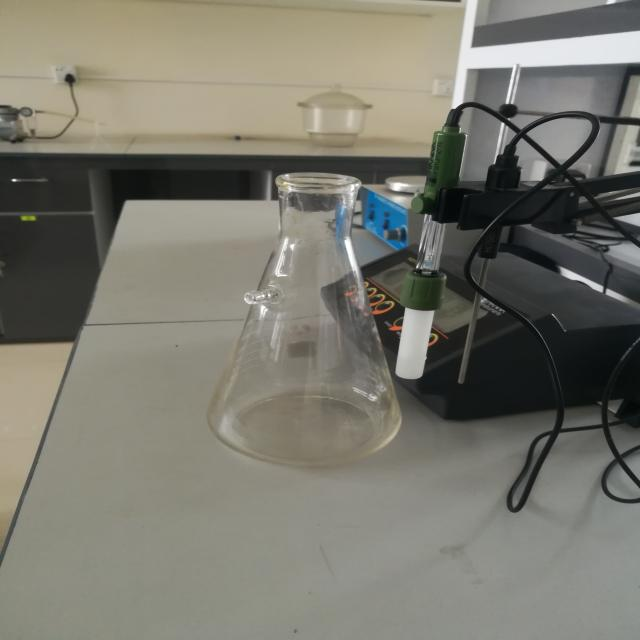Conical_Flask: (192, 144, 438, 492)
